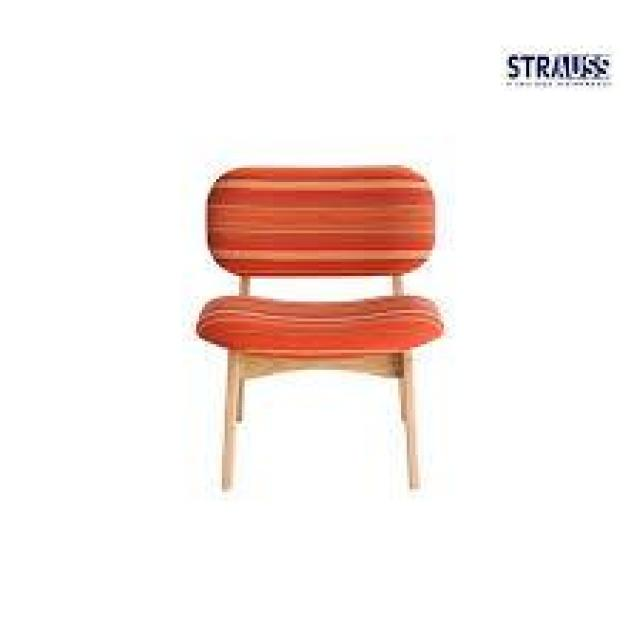chair: (183, 152, 488, 514)
